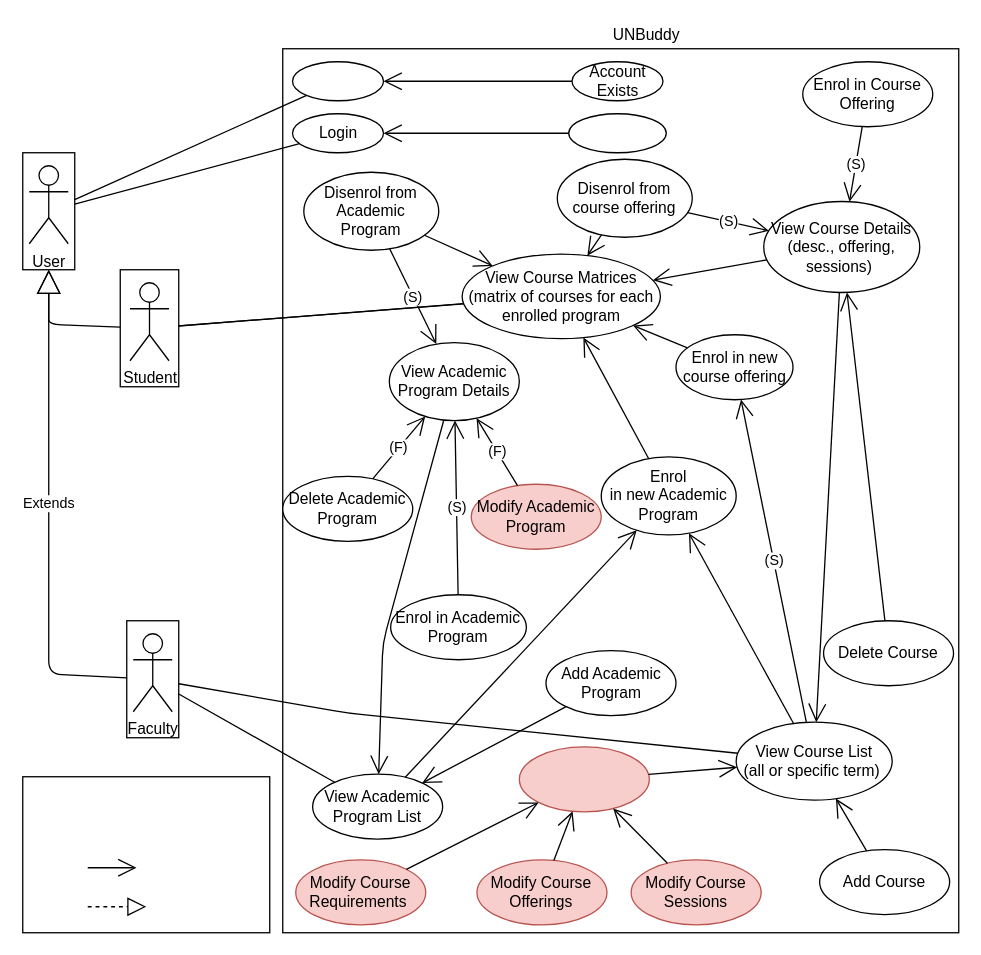
The diagram is 981 pixels wide and 955 high, and some of its shapes have lost their labels. The centre of each missing label's shape, as x and y in pixels:
"(S): use case is extended for students only ( ) extension ( ) inclusion" belongs at [145,854].
"Create Account" belongs at [337,80].
"Invalid Login" belongs at [616,132].
"Modify Course" belongs at [583,779].
